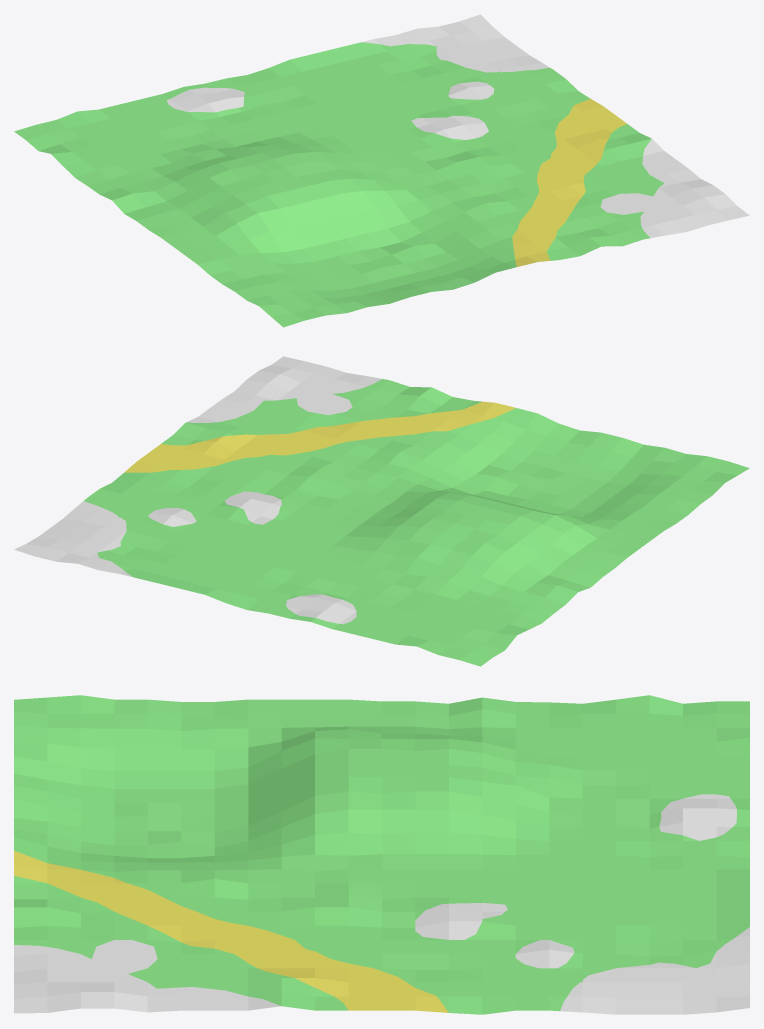
The picture shows the model from 3 angles, top to bottom: view 1: azimuth 30°, elevation 25°; view 2: azimuth 150°, elevation 25°; view 3: azimuth 270°, elevation 25°; orthographic projection. The views are drawn at different scales.
Parts seen in each view (by area): view 1: mesh; view 2: mesh; view 3: mesh.
Part boxes in pixels (box(x1,y1,x2,y2)): mesh: box(14, 14, 749, 327); mesh: box(14, 356, 749, 666); mesh: box(14, 695, 749, 1014).
Bounding box in the file's own units: 10000 × 635 × 10000.
